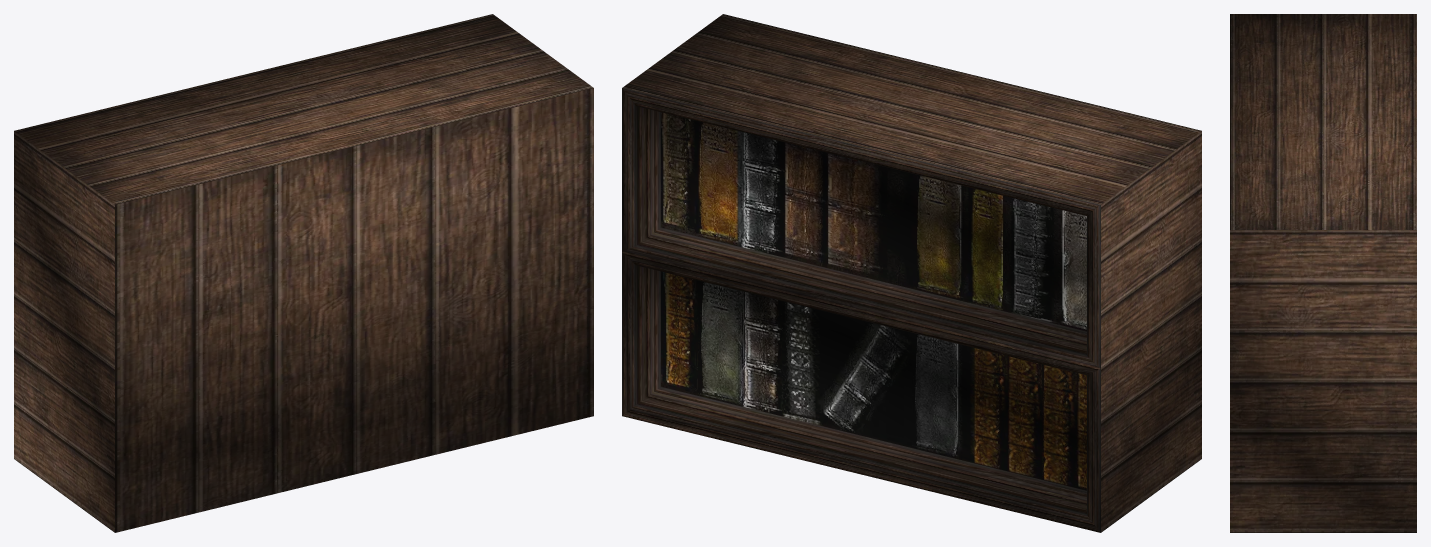
Rendered from GS_VOB_MERCHANT_BOOKSTAND_ORANGE_01_KOZA.glb.
The picture shows the model from 3 angles, left to right: view 1: azimuth 30°, elevation 25°; view 2: azimuth 150°, elevation 25°; view 3: azimuth 270°, elevation 25°; orthographic projection. The views are drawn at different scales.
Parts seen in each view (by area): view 1: Mesh; view 2: Mesh; view 3: Mesh.
Part boxes in pixels (box(x1,y1,x2,y2)): Mesh: box(14, 14, 593, 532); Mesh: box(622, 14, 1201, 532); Mesh: box(1230, 14, 1416, 532).
Bounding box in the file's own units: 0.9054 × 0.5929 × 0.3312.
3 materials, 3 textured.
